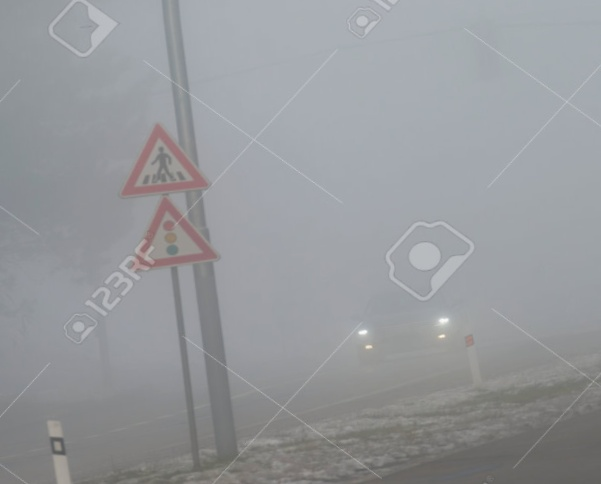Pedestrian crossing: (111, 120, 211, 195)
Traffic lights: (127, 193, 225, 268)
